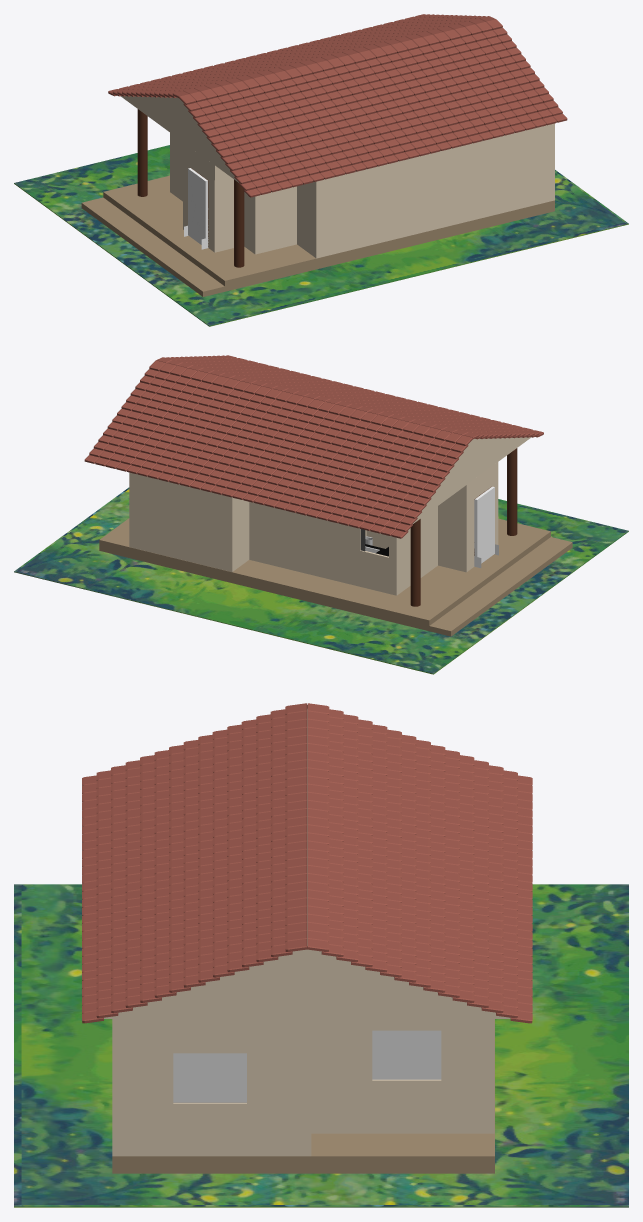
The model's file is CASA (com itens).fbx.
The picture shows the model from 3 angles, top to bottom: view 1: azimuth 30°, elevation 25°; view 2: azimuth 150°, elevation 25°; view 3: azimuth 270°, elevation 25°; orthographic projection. The views are drawn at different scales.
Visible parts, largest first — view 1: telhado, Base + Parede, Cube.011, Cube.012, telhado.001, Cube.013, CTRL_Hole, Cylinder.001, Cylinder.002; view 2: telhado.001, Cube.011, Base + Parede, Cube.012, telhado, Cube.013, CTRL_Hole, Cylinder.002, Cylinder.001; view 3: Cube.011, telhado.001, telhado, Base + Parede, Cube.013, Cube.012, Vidro.002, Vidro.001.
Boxes of the visible parts, x1,y1,x2,y2 form: telhado: [179, 19, 567, 197]; Base + Parede: [170, 123, 554, 258]; Cube.011: [14, 145, 628, 326]; Cube.012: [81, 175, 554, 296]; telhado.001: [108, 14, 495, 97]; Cube.013: [120, 96, 238, 182]; CTRL_Hole: [188, 168, 208, 247]; Cylinder.001: [137, 109, 147, 196]; Cylinder.002: [234, 179, 244, 267]; telhado.001: [84, 360, 472, 538]; Cube.011: [14, 487, 628, 674]; Base + Parede: [129, 462, 498, 595]; Cube.012: [99, 518, 572, 636]; telhado: [156, 355, 543, 439]; Cube.013: [413, 437, 530, 523]; CTRL_Hole: [474, 486, 494, 563]; Cylinder.002: [507, 448, 517, 535]; Cylinder.001: [410, 519, 420, 606]; Cube.011: [14, 884, 628, 1207]; telhado.001: [307, 703, 532, 1023]; telhado: [82, 703, 307, 1023]; Base + Parede: [112, 1019, 494, 1156]; Cube.013: [104, 709, 510, 1018]; Cube.012: [112, 1019, 494, 1173]; Vidro.002: [173, 1053, 246, 1102]; Vidro.001: [372, 1030, 441, 1079].
Bounding box in the file's own units: 2845 × 952 × 2295.
27 materials, 3 textured.
